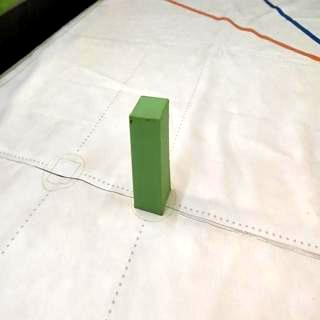greenbox: (129, 94, 178, 216)
